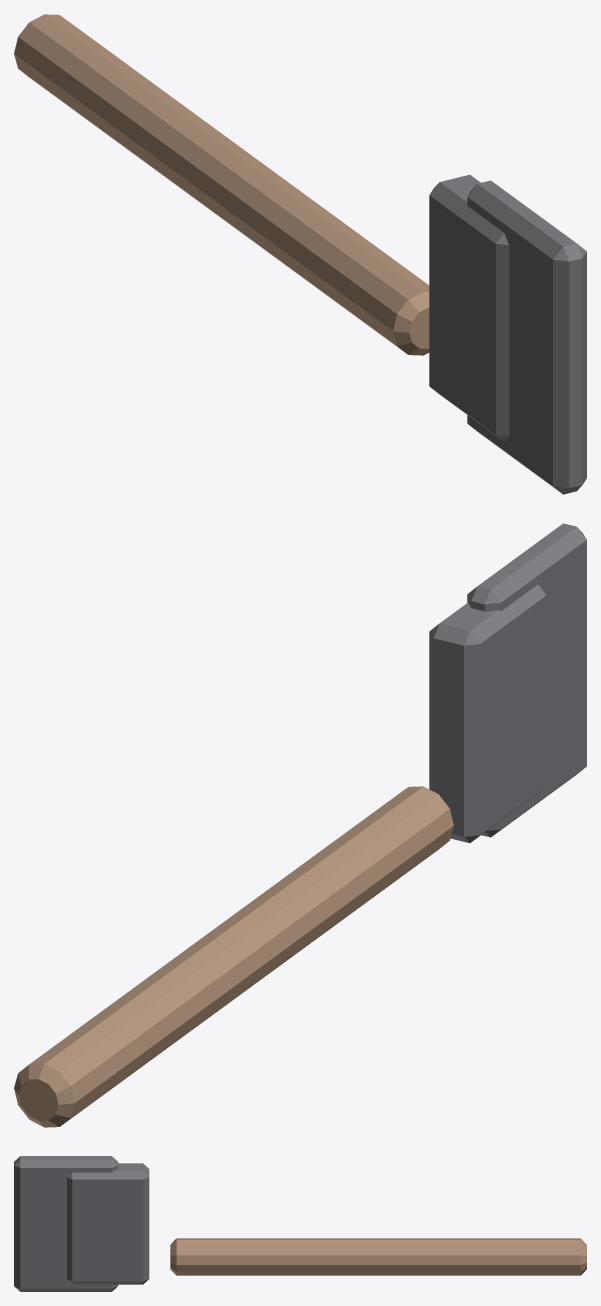
The model's file is SM_Axe.fbx.
3 views of the same model, one above another, from view 1: azimuth 30°, elevation 25°; view 2: azimuth 150°, elevation 25°; view 3: azimuth 270°, elevation 25° (orthographic). The views are drawn at different scales.
Visible parts, largest first — view 1: Axe; view 2: Axe; view 3: Axe.
Part boxes in pixels (box(x1,y1,x2,y2)): Axe: box(14, 14, 586, 494); Axe: box(14, 523, 586, 1127); Axe: box(14, 1156, 586, 1291).
Bounding box in the file's own units: 3.6 × 14 × 55.
